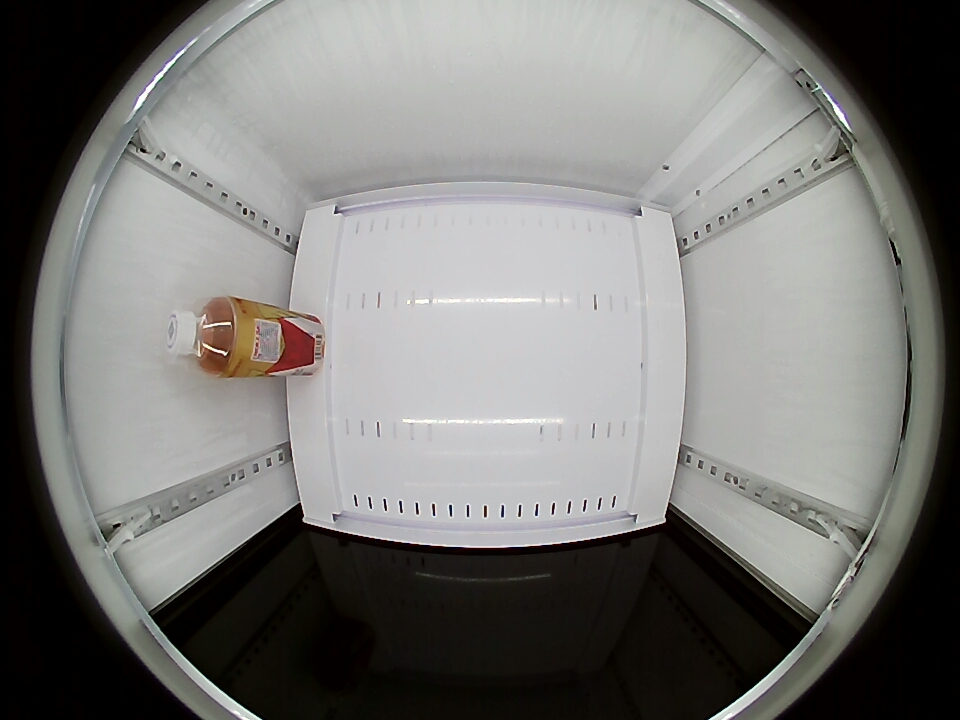dongpeng-b: (163, 297, 250, 378)
